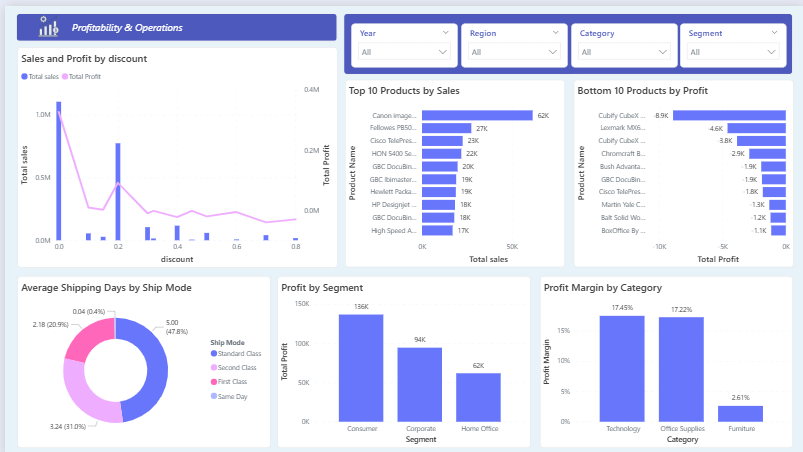

This screenshot's page, from the dashboard's own definition file:
{"tool":"powerbi","page":{"name":"Profitability & Operations","canvas":[1280,720],"ordinal":1},"visuals":[{"type":"clusteredColumnChart","fields":{"Category":["Orders.Category"],"Y":["Orders.Profit Margin"]},"box":[855,431.2,405,275],"z":0},{"type":"clusteredColumnChart","title":"Profit by Segment","fields":{"Category":["Orders.Segment"],"Y":["Orders.Total Profit"]},"box":[436.2,431.2,405,275],"z":1000},{"type":"donutChart","fields":{"Category":["Orders.Ship Mode"],"Y":["Orders.Average Shipping Days"]},"box":[20,431.2,405,275],"z":2000},{"type":"lineClusteredColumnComboChart","title":"Sales and Profit by discount","fields":{"Y":["Orders.Total sales"],"Category":["Orders.discount"],"Y2":["Orders.Total Profit"]},"box":[20,65,511.7,352.5],"z":3000},{"type":"clusteredBarChart","title":"Top 10 Products by Sales","fields":{"Category":["Orders.product_name"],"Y":["Orders.Total sales"]},"box":[543.3,117.5,352,300],"z":4000},{"type":"clusteredBarChart","title":"Bottom 10 Products by Profit","fields":{"Category":["Orders.Product Name"],"Y":["Orders.Total Profit"]},"box":[909.2,117.5,351.7,300],"z":5000},{"type":"shape","box":[17.3,12.7,513.6,44.5],"z":6000},{"type":"textbox","box":[92.9,22.4,277.1,31.9],"z":7000},{"type":"shape","box":[542.9,12.9,718.6,97.9],"z":8000},{"type":"slicer","fields":{"Values":["DateTable.Year"]},"box":[554.3,27.1,170,70],"z":9000},{"type":"slicer","fields":{"Values":["Orders.Region"]},"box":[730,27.1,170,70],"z":10000},{"type":"slicer","fields":{"Values":["Orders.Segment"]},"box":[1080.7,27.1,170,70],"z":11000},{"type":"slicer","fields":{"Values":["Orders.Category"]},"box":[905,27.1,170,70],"z":12000},{"type":"image","box":[46.2,14.8,46.7,35.7],"z":13000}]}

Visuals, with their boxes in screenshot pixels (x1, y1, x2, y2), scaled from the page's 1280x720 canvas onto the 803x452 screenshot:
clusteredColumnChart - Orders.Category x Orders.Profit Margin: select_region(536, 271, 790, 443)
"Profit by Segment" clusteredColumnChart: select_region(274, 271, 528, 443)
donutChart - Orders.Ship Mode x Orders.Average Shipping Days: select_region(13, 271, 267, 443)
"Sales and Profit by discount" lineClusteredColumnComboChart: select_region(13, 41, 334, 262)
"Top 10 Products by Sales" clusteredBarChart: select_region(341, 74, 562, 262)
"Bottom 10 Products by Profit" clusteredBarChart: select_region(570, 74, 791, 262)
shape: select_region(11, 8, 333, 36)
textbox: select_region(58, 14, 232, 34)
shape: select_region(341, 8, 791, 70)
slicer - DateTable.Year: select_region(348, 17, 454, 61)
slicer - Orders.Region: select_region(458, 17, 565, 61)
slicer - Orders.Segment: select_region(678, 17, 785, 61)
slicer - Orders.Category: select_region(568, 17, 674, 61)
image: select_region(29, 9, 58, 32)
